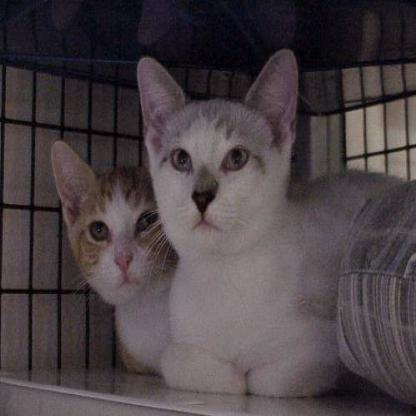cat: (119, 37, 332, 278), (24, 109, 209, 328)
